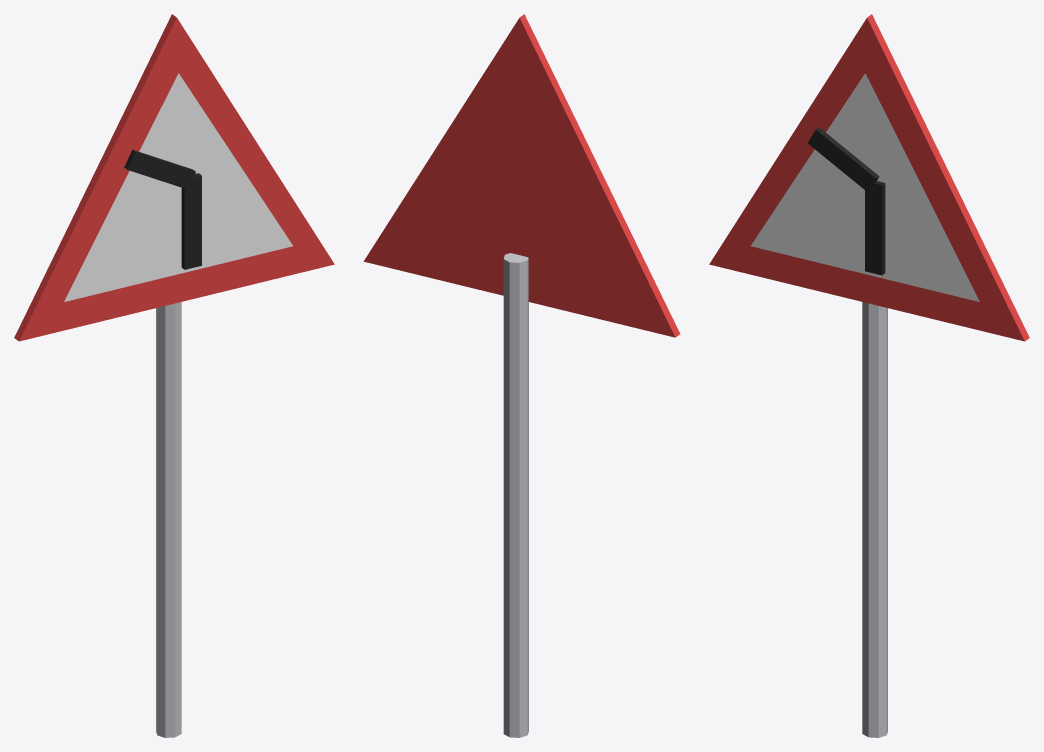
File: sign_curve_l.glb
3 views of the same model, side by side, from view 1: azimuth 30°, elevation 25°; view 2: azimuth 150°, elevation 25°; view 3: azimuth 330°, elevation 25° (orthographic).
Visible parts, largest first — view 1: sign_curve_l; view 2: sign_curve_l; view 3: sign_curve_l.
Boxes of the visible parts, x1,y1,x2,y2 form: sign_curve_l: (14, 14, 334, 737); sign_curve_l: (363, 14, 680, 737); sign_curve_l: (709, 14, 1029, 737).
Bounding box in the file's own units: 1.1 × 2.4 × 0.12.
